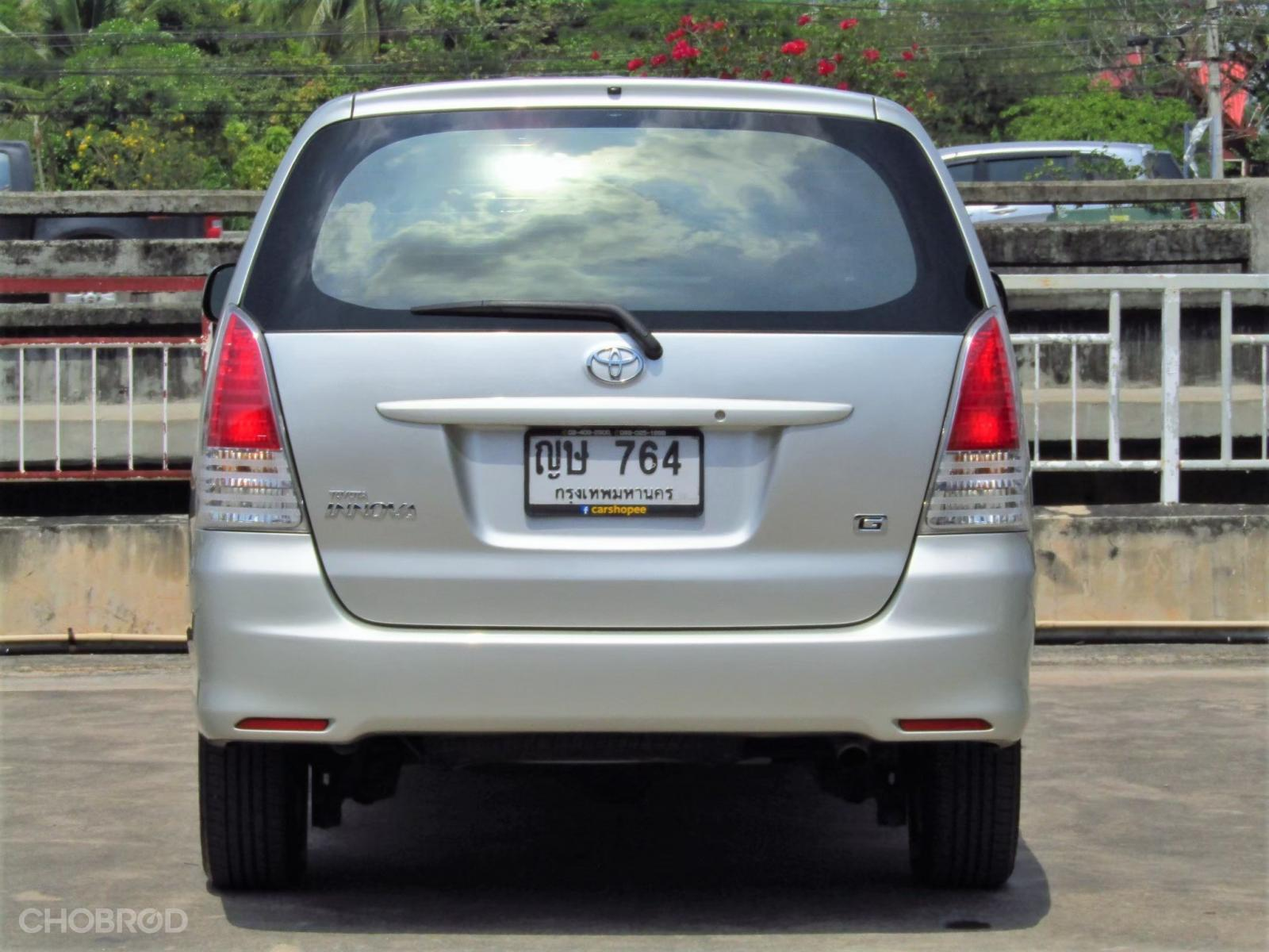license-plate: (521, 419, 707, 522)
